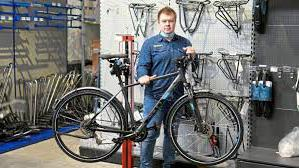mask_weared_incorrect: (160, 17, 175, 37)
